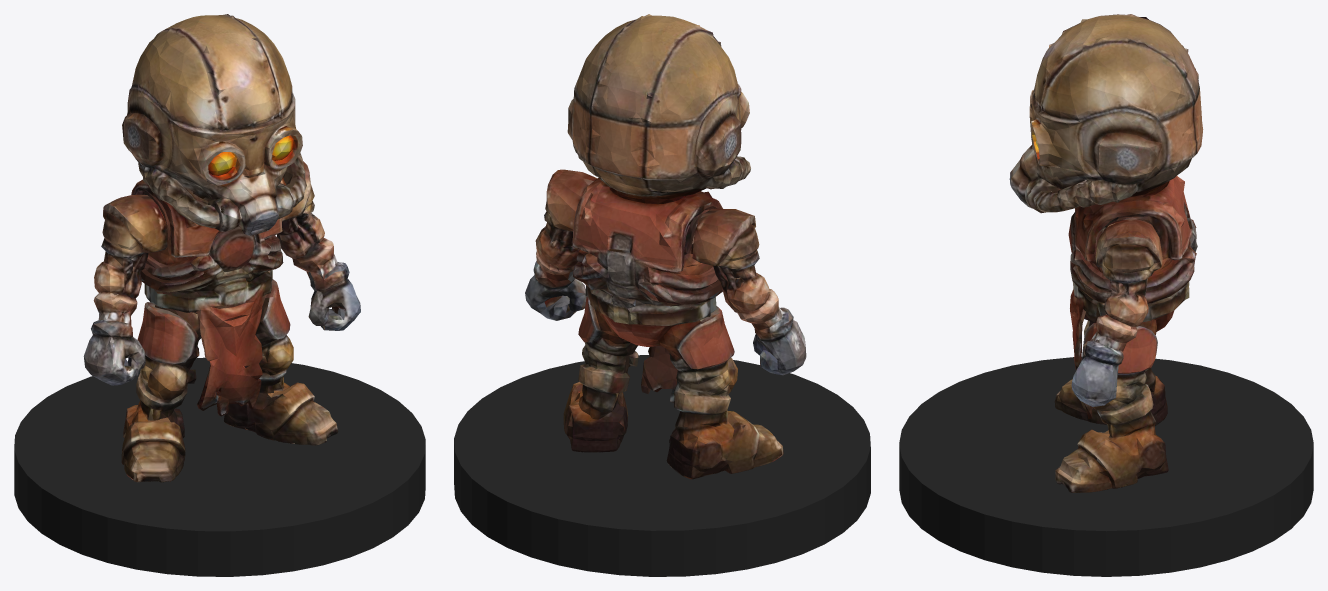
File: hc-skitarii-vanguard-warrior.glb
3 views of the same model, side by side, from view 1: azimuth 30°, elevation 25°; view 2: azimuth 150°, elevation 25°; view 3: azimuth 270°, elevation 25° (orthographic).
Parts seen in each view (by area): view 1: figure, base; view 2: figure, base; view 3: base, figure.
Boxes of the visible parts, box(x1,y1,x2,y2) form: figure: box(83, 14, 360, 482); base: box(14, 357, 425, 576); figure: box(525, 14, 806, 479); base: box(454, 355, 870, 576); base: box(899, 357, 1313, 576); figure: box(1009, 14, 1203, 492).
Bounding box in the file's own units: 0.9843 × 1.22 × 0.9843.
2 materials, 1 textured.
